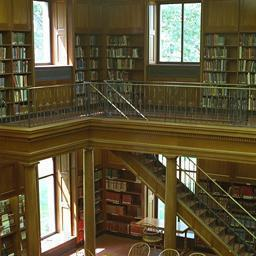Escaleras: (81, 80, 251, 254)
Ventana: (155, 7, 201, 64), (36, 160, 70, 235), (33, 1, 69, 63)
